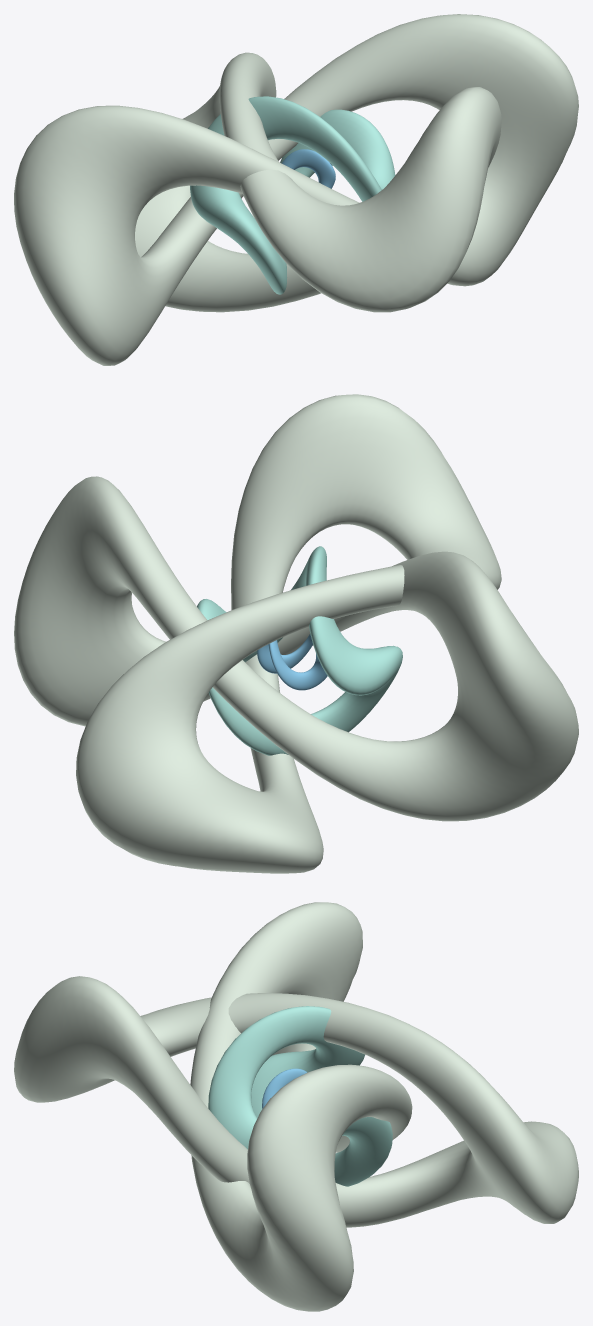
Rendered from anger.glb.
3 renders of one model, top to bottom at view 1: azimuth 30°, elevation 25°; view 2: azimuth 150°, elevation 25°; view 3: azimuth 270°, elevation 25°, orthographic. The views are drawn at different scales.
Parts seen in each view (by area): view 1: Torus.002, Torus.003, Torus.001, Torus; view 2: Torus.003, Torus.002, Torus.001, Torus; view 3: Torus.003, Torus.002, Torus.001, Torus.
Part boxes in pixels (x1,y1,x2,y2): Torus.002: (14,14,578,365); Torus.003: (135,52,501,312); Torus.001: (190,96,395,294); Torus: (281,149,335,188); Torus.003: (76,394,501,873); Torus.002: (14,476,578,821); Torus.001: (197,546,402,755); Torus: (257,634,327,690); Torus.003: (14,976,578,1227); Torus.002: (190,902,412,1311); Torus.001: (208,1006,392,1186); Torus: (262,1068,306,1108).
Size of the model in its own units: 18.69 by 10.14 by 18.09.
